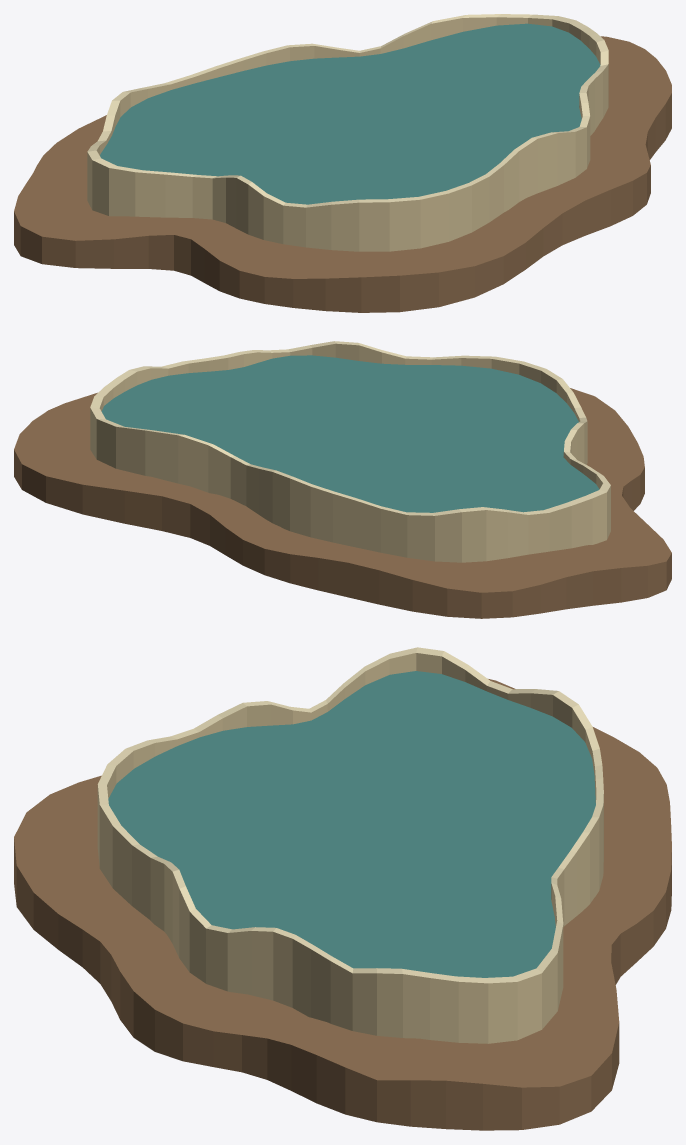
3 renders of one model, top to bottom at view 1: azimuth 30°, elevation 25°; view 2: azimuth 150°, elevation 25°; view 3: azimuth 270°, elevation 25°, orthographic. The views are drawn at different scales.
Visible parts, largest first — view 1: one_enclosed_cave_pool, attached_original_cave_floor, one_thin_sinuous_calcite_enclosing_dam; view 2: one_enclosed_cave_pool, attached_original_cave_floor, one_thin_sinuous_calcite_enclosing_dam; view 3: one_enclosed_cave_pool, attached_original_cave_floor, one_thin_sinuous_calcite_enclosing_dam.
Part boxes in pixels (box(x1,y1,x2,y2)): one_enclosed_cave_pool: box(100, 23, 600, 204); attached_original_cave_floor: box(14, 36, 671, 312); one_thin_sinuous_calcite_enclosing_dam: box(87, 14, 608, 251); one_enclosed_cave_pool: box(101, 355, 599, 512); attached_original_cave_floor: box(14, 388, 671, 618); one_thin_sinuous_calcite_enclosing_dam: box(90, 341, 610, 562); one_enclosed_cave_pool: box(108, 671, 595, 977); attached_original_cave_floor: box(14, 679, 671, 1130); one_thin_sinuous_calcite_enclosing_dam: box(97, 647, 603, 1043).
Size of the model in its own units: 2.54 by 0.3248 by 1.7.
